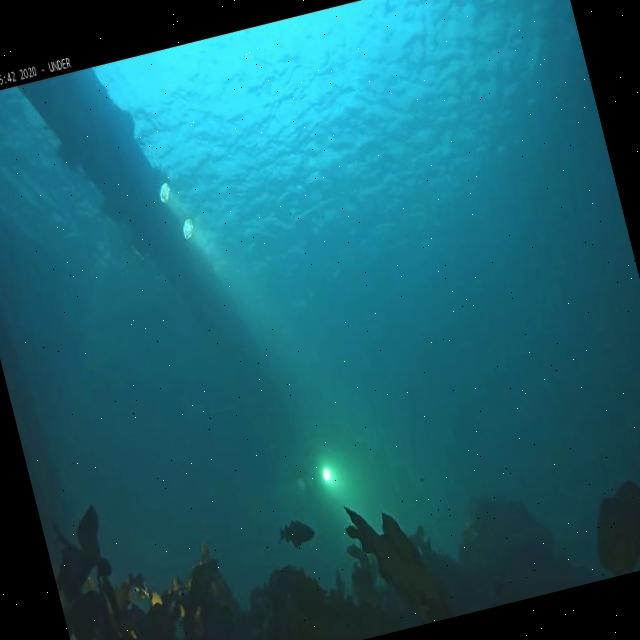fish: (276, 518, 317, 552)
